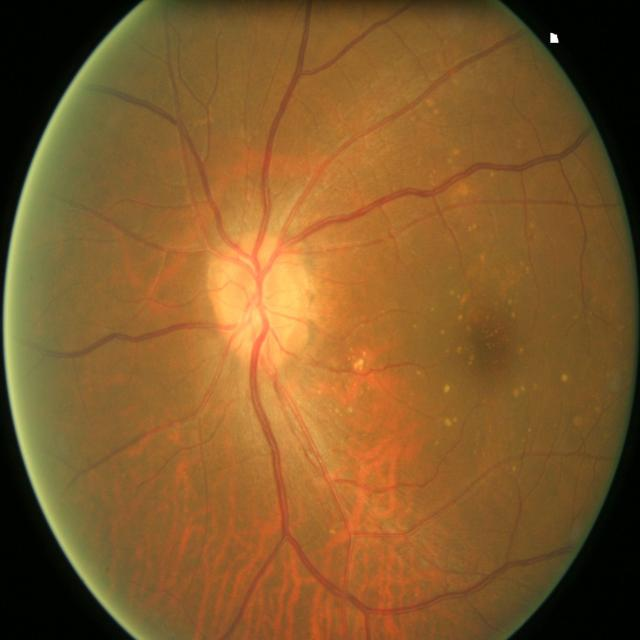OD: (213, 235, 311, 363)
